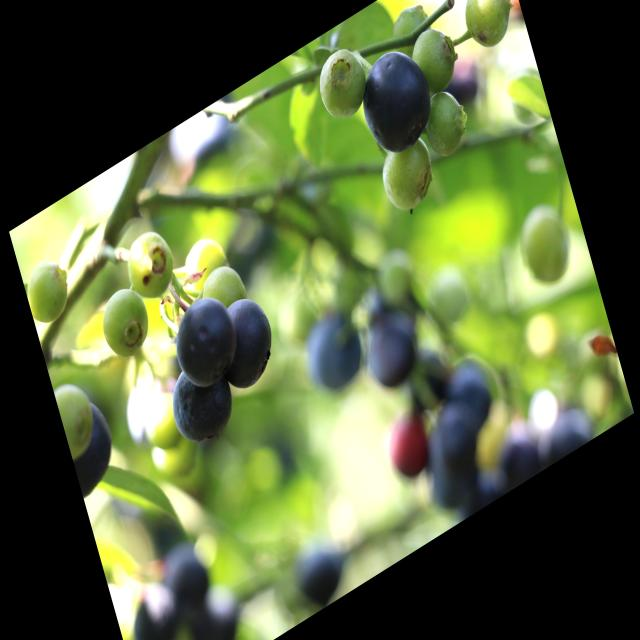blueberry: (349, 31, 441, 171), (208, 282, 286, 402), (167, 282, 244, 398), (162, 350, 238, 456), (298, 296, 368, 403), (61, 393, 124, 498), (362, 314, 421, 396), (297, 535, 351, 611)
blueberry-unripe: (118, 216, 185, 313), (374, 126, 438, 222), (93, 277, 157, 371), (309, 38, 372, 128), (408, 10, 464, 96), (53, 371, 104, 464), (195, 248, 253, 326), (21, 253, 76, 333), (418, 82, 470, 164), (178, 227, 232, 297), (456, 0, 520, 58)
